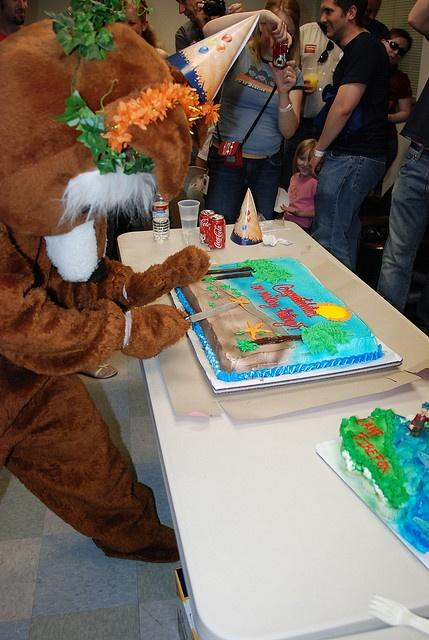Meja: (113, 216, 428, 639)
